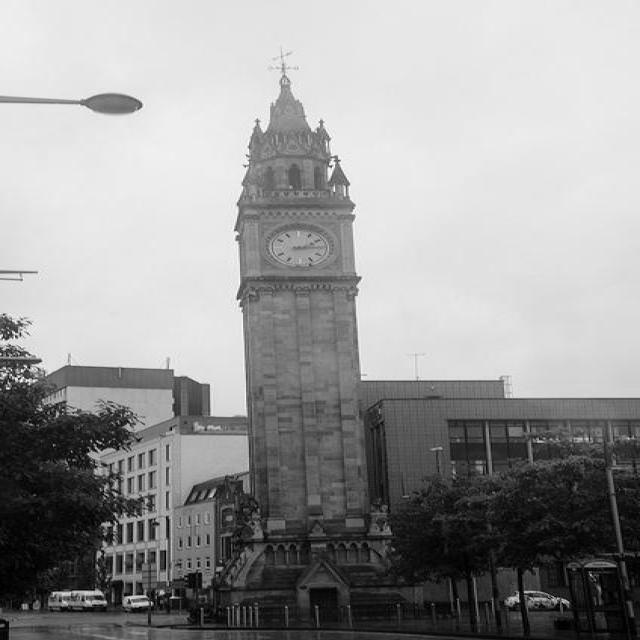vehicle: (504, 591, 572, 611), (68, 590, 108, 612), (122, 595, 154, 612)
